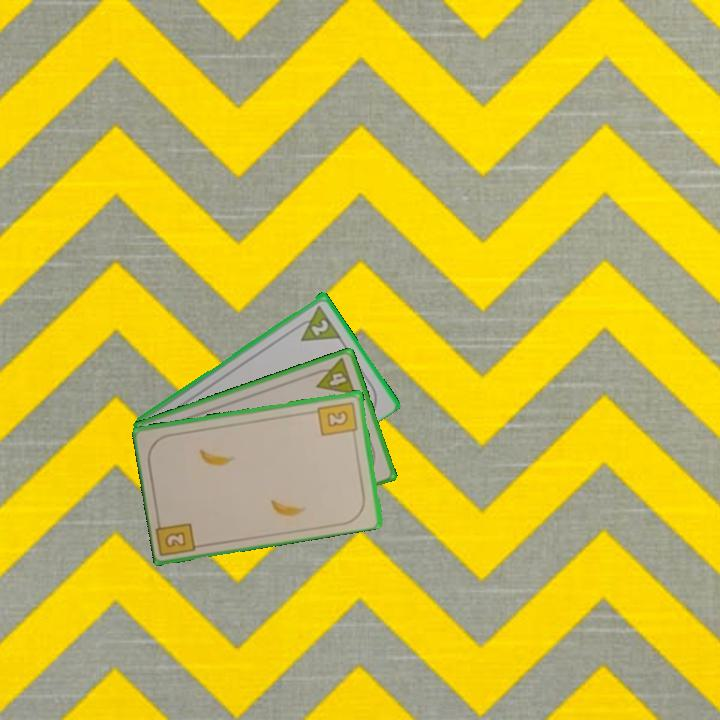2b: (315, 398, 361, 440), (161, 528, 189, 551)
2p: (290, 301, 343, 344)
4p: (309, 354, 358, 398)
